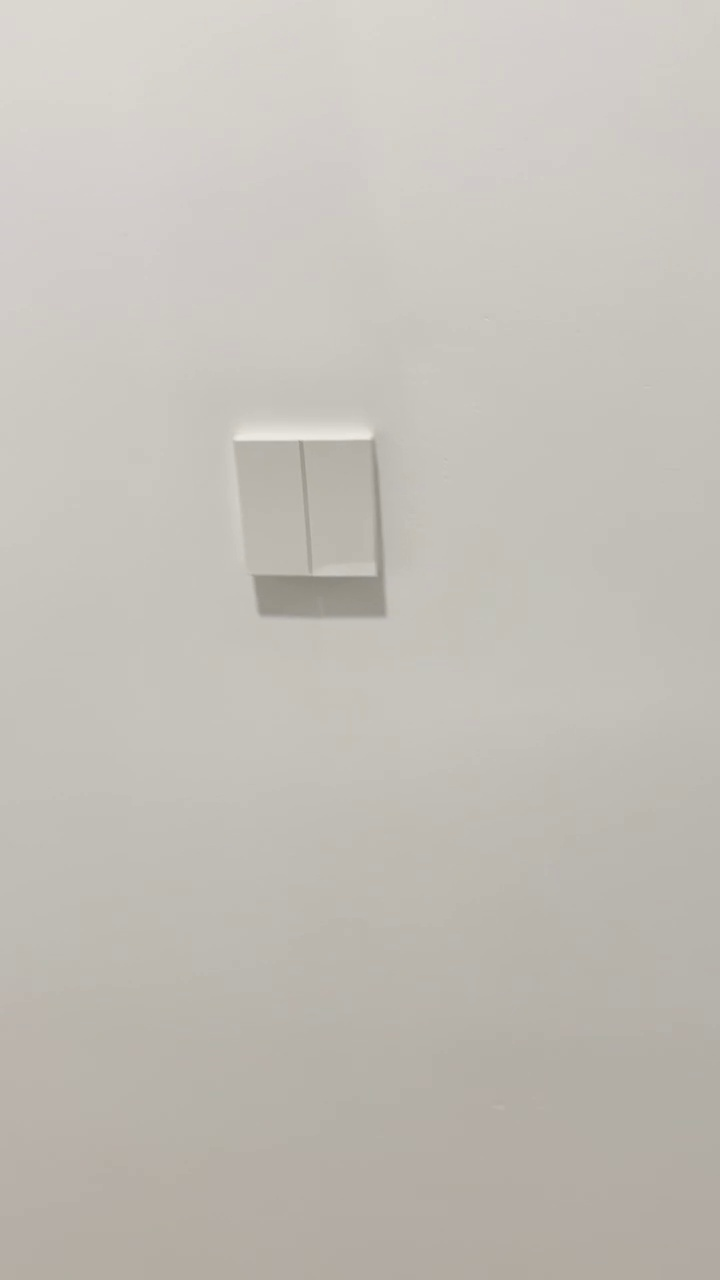button: (231, 426, 386, 583)
